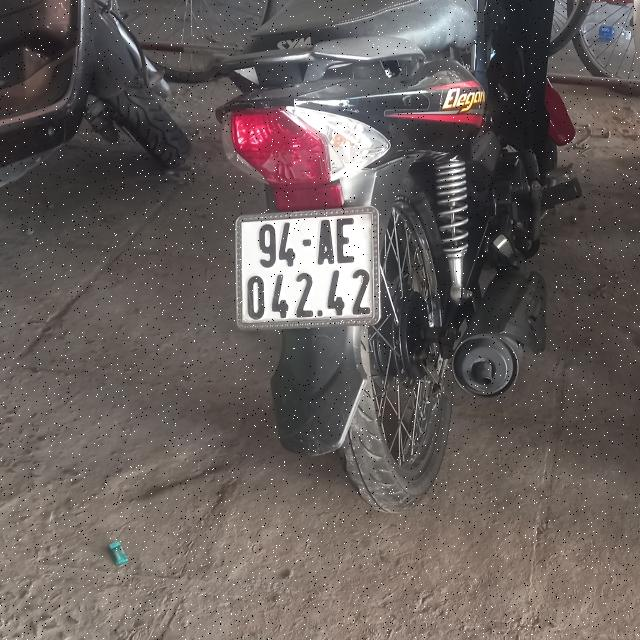0: (247, 275, 265, 320)
2: (296, 273, 314, 317), (353, 269, 370, 315)
4: (328, 269, 344, 316), (280, 222, 296, 267), (272, 274, 288, 318)
9: (260, 224, 276, 267)
A: (317, 220, 334, 264)
E: (334, 217, 356, 265)
